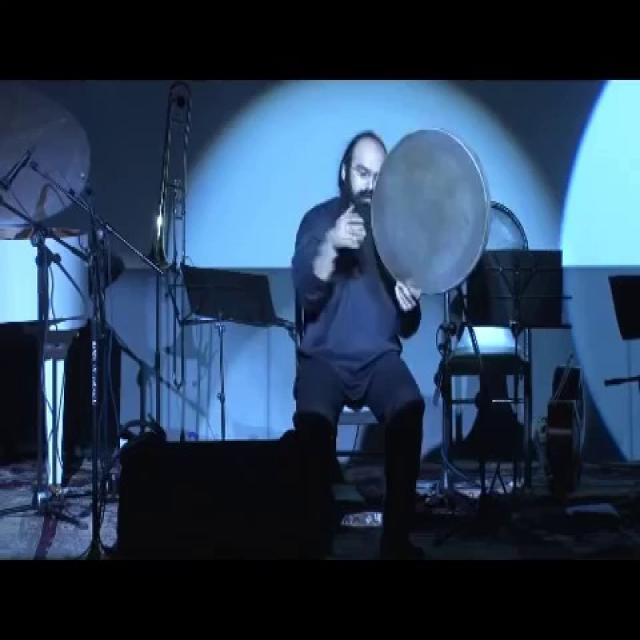Daf: (365, 125, 492, 304)
